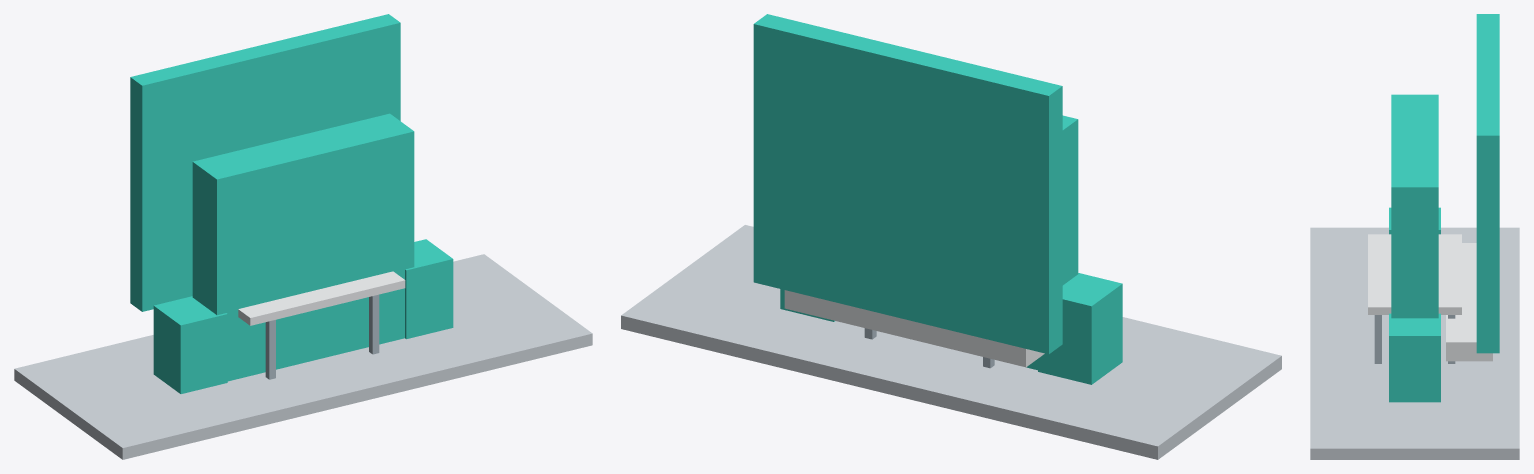
3 renders of one model, left to right at view 1: azimuth 30°, elevation 25°; view 2: azimuth 150°, elevation 25°; view 3: azimuth 270°, elevation 25°, orthographic. The views are drawn at different scales.
Visible parts, largest first — view 1: Exhibition Booth Concept; view 2: Exhibition Booth Concept; view 3: Exhibition Booth Concept.
Boxes of the visible parts, x1,y1,x2,y2 form: Exhibition Booth Concept: (14,14,592,459); Exhibition Booth Concept: (621,14,1281,459); Exhibition Booth Concept: (1310,14,1519,459).
Size of the model in its own units: 5 by 2.9 by 2.
